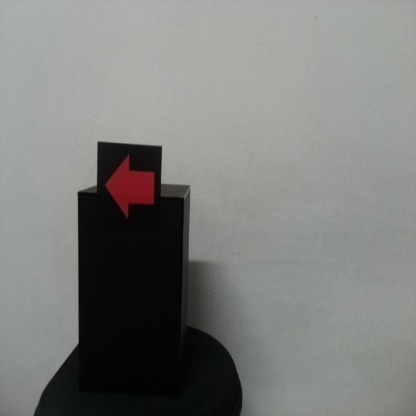id_4: (97, 144, 161, 238)
